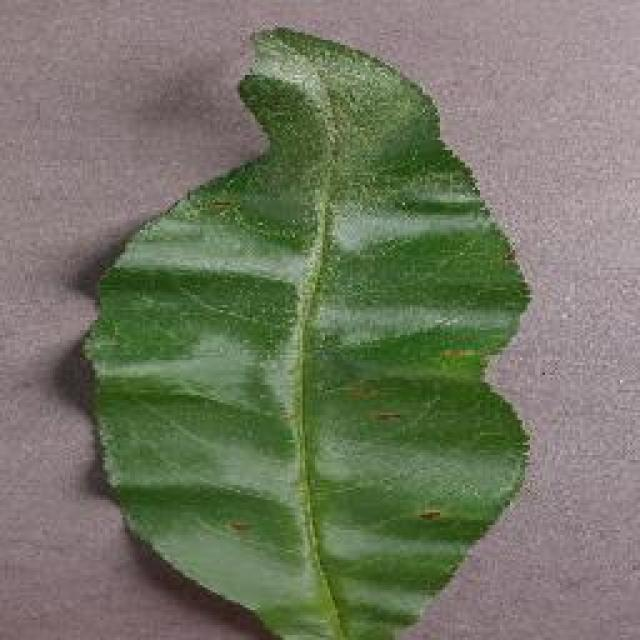Peach_Bacterial_Spot: (245, 150, 440, 438)
